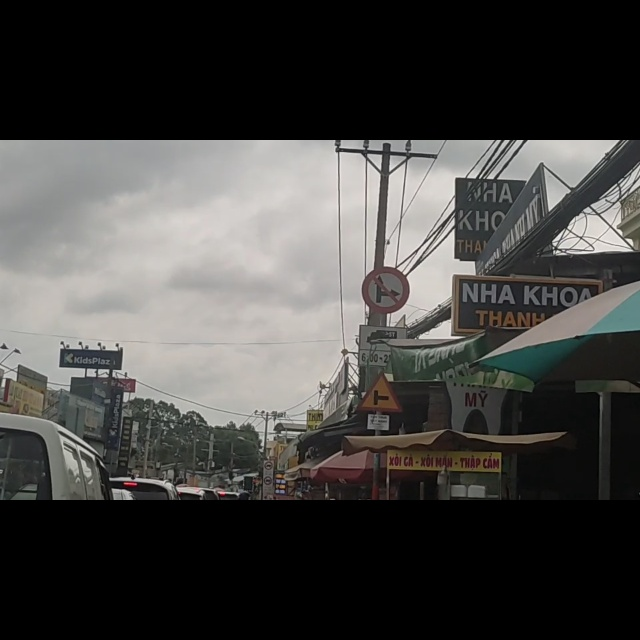bien_cam: (363, 226, 408, 303), (357, 415, 401, 482), (360, 329, 402, 397)
